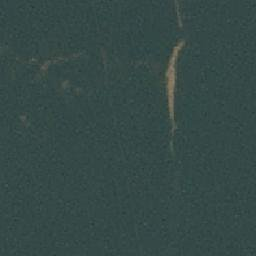debris: (165, 40, 188, 136)
